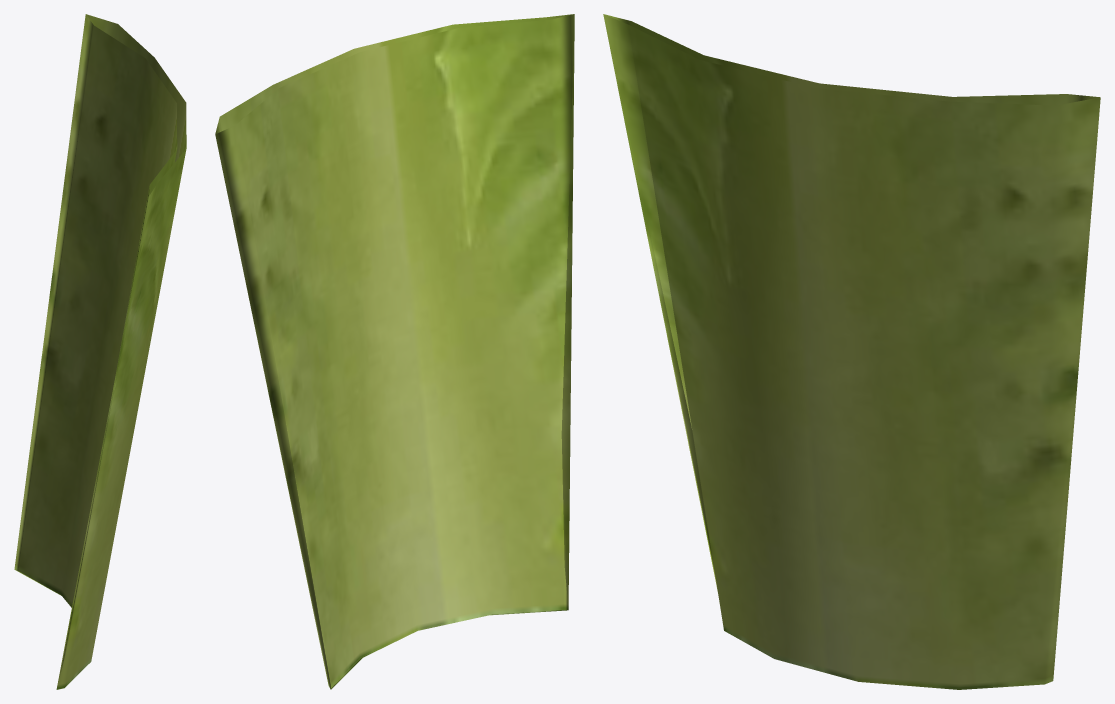
Rendered from romainelettucechop2.fbx.
3 views of the same model, side by side, from view 1: azimuth 30°, elevation 25°; view 2: azimuth 150°, elevation 25°; view 3: azimuth 270°, elevation 25° (orthographic). The views are drawn at different scales.
Visible parts, largest first — view 1: romaineleaf1; view 2: romaineleaf1; view 3: romaineleaf1.
Part boxes in pixels (x1,y1,x2,y2): romaineleaf1: [14, 14, 186, 689]; romaineleaf1: [215, 14, 574, 689]; romaineleaf1: [603, 14, 1100, 689].
Size of the model in its own units: 1.76 by 4.46 by 3.15.
